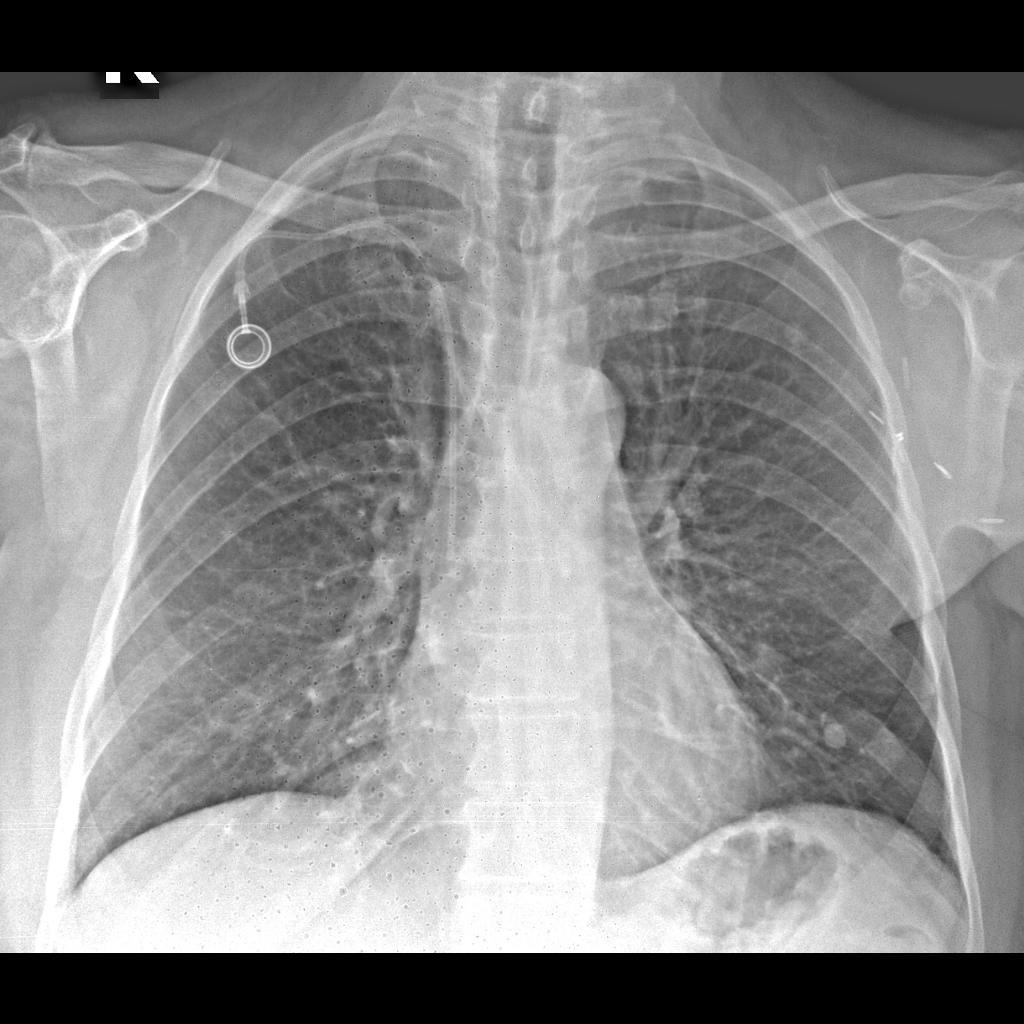Nodule: (815, 718, 867, 764)
